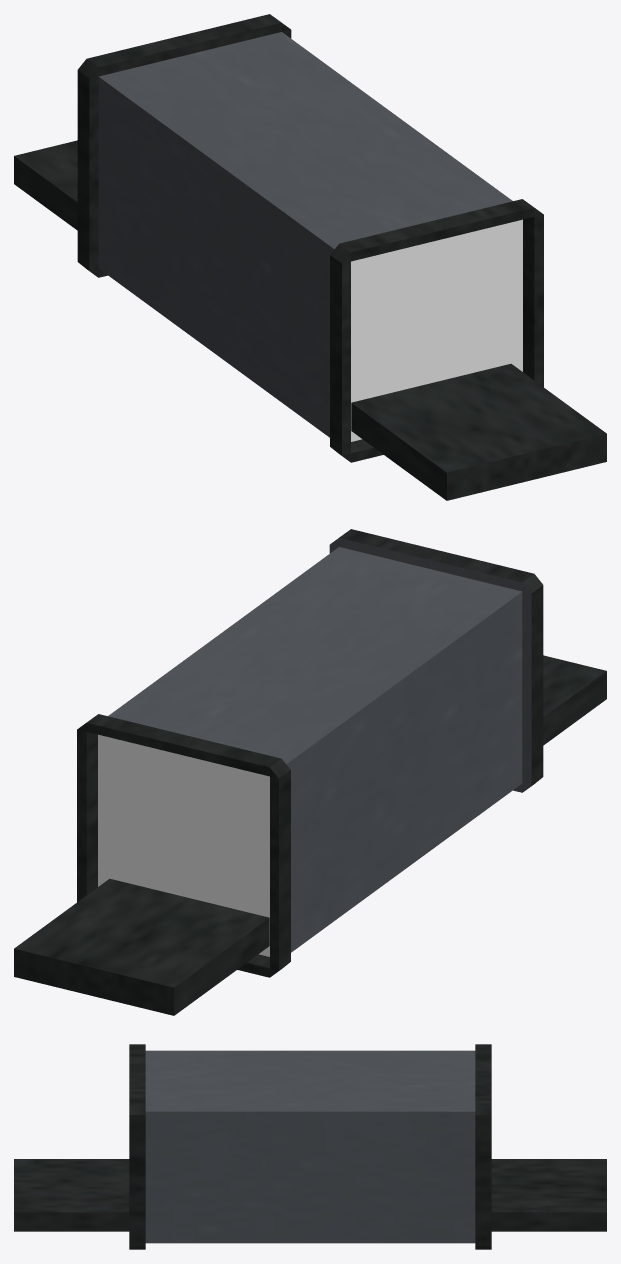
File: assembly_machine.glb
3 views of the same model, one above another, from view 1: azimuth 30°, elevation 25°; view 2: azimuth 150°, elevation 25°; view 3: azimuth 270°, elevation 25° (orthographic). The views are drawn at different scales.
Parts seen in each view (by area): view 1: Cube; view 2: Cube; view 3: Cube.
Boxes of the visible parts, x1,y1,x2,y2 form: Cube: (14, 14, 606, 500); Cube: (14, 529, 606, 1015); Cube: (14, 1044, 606, 1249).
Size of the model in its own units: 4.4 by 4.39 by 16.36.
3 materials, 2 textured.
